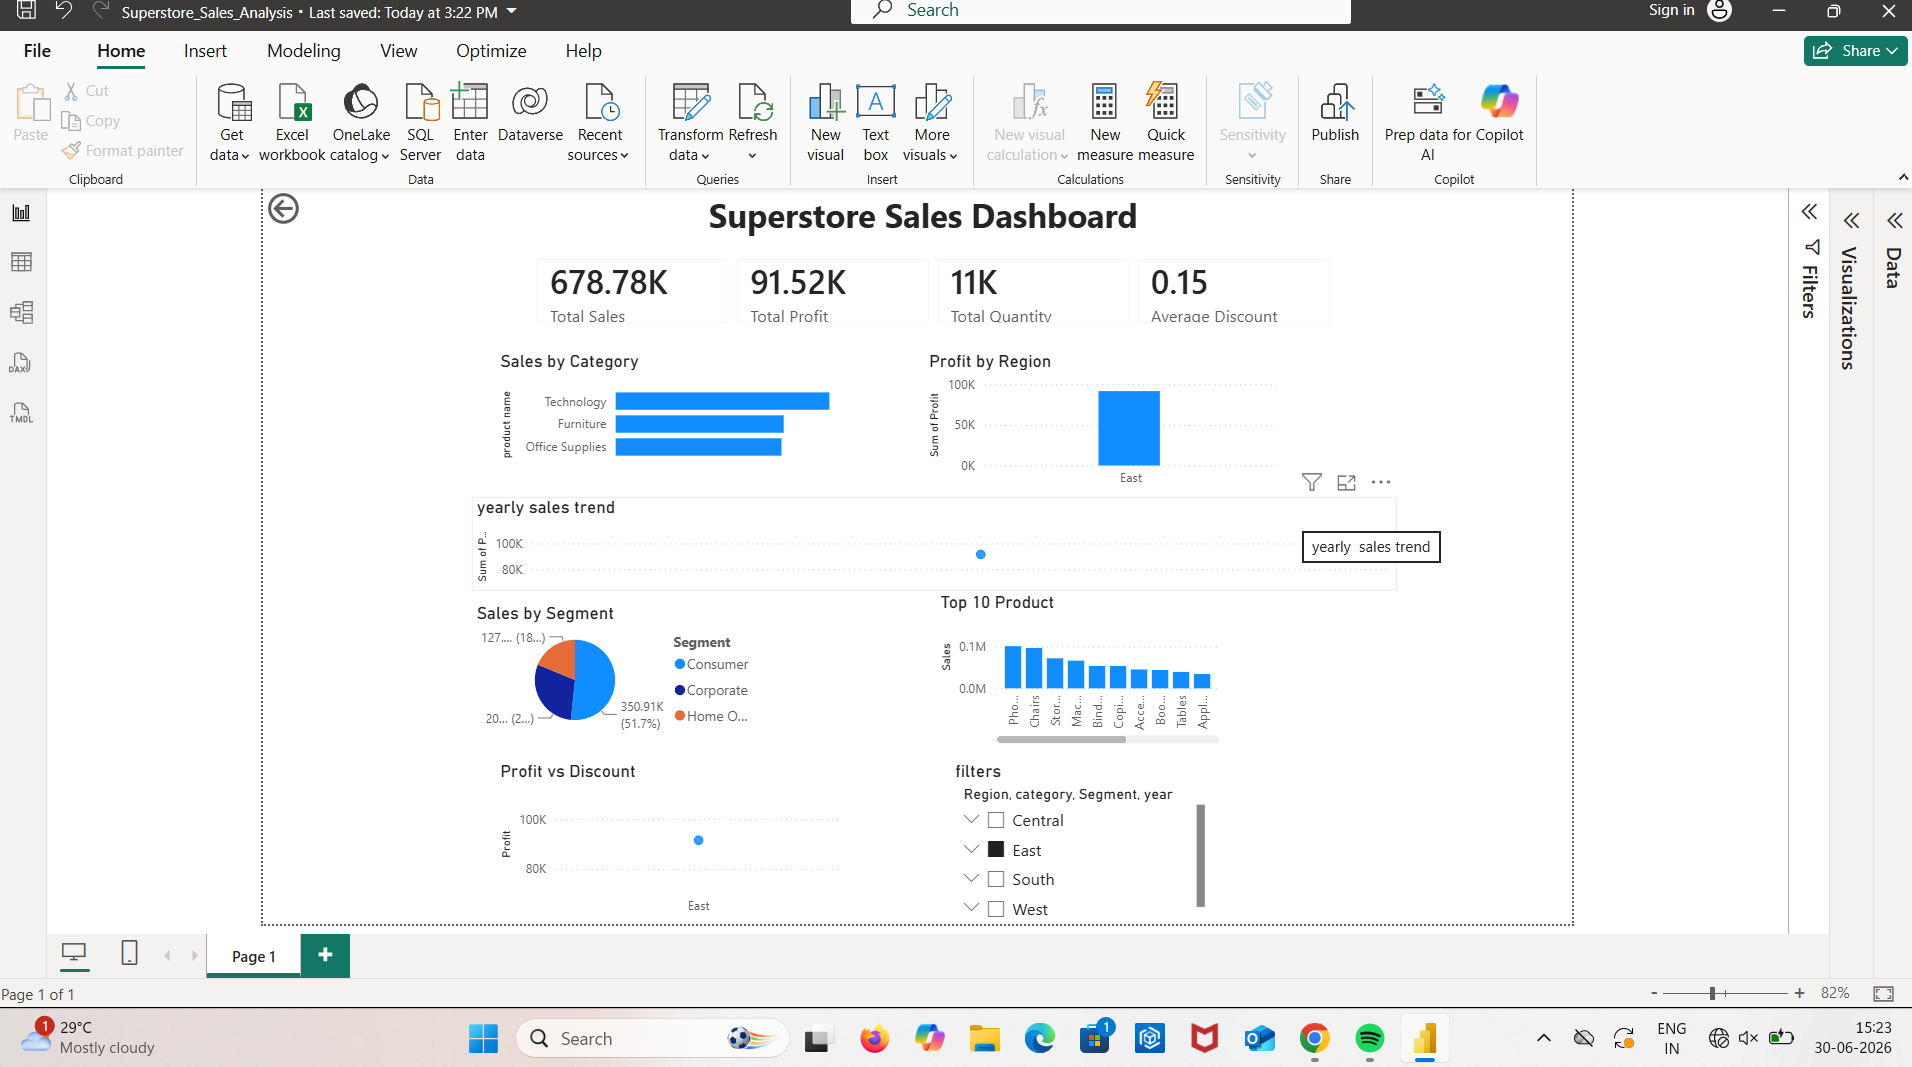

What the dashboard file says about the page in this screenshot:
{"tool":"powerbi","page":{"name":"Page 1","canvas":[1280,720],"ordinal":0},"visuals":[{"type":"clusteredBarChart","title":"Sales by Category","fields":{"Category":["SampleSuperstore.Category"],"Y":["Sum(SampleSuperstore.Sales)"]},"box":[227.8,159.2,359.5,118],"z":0},{"type":"clusteredColumnChart","title":" Profit by Region","fields":{"Category":["SampleSuperstore.Region"],"Y":["Sum(SampleSuperstore.Profit)"]},"box":[646.3,159.2,349.9,142.7],"z":1},{"type":"actionButton","box":[0,0,100,40],"z":3},{"type":"scatterChart","title":"yearly  sales trend","fields":{"Category":["SampleSuperstore.year"],"X":["Sum(SampleSuperstore.Discount)"],"Y":["Sum(SampleSuperstore.Profit)"]},"box":[204.5,301.9,904.3,91.9],"z":4},{"type":"pieChart","title":"Sales by Segment","fields":{"Category":["SampleSuperstore.Segment"],"Y":["Sum(SampleSuperstore.Sales)"]},"box":[204.5,406.2,285.4,131.7],"z":5},{"type":"scatterChart","title":"  Profit vs Discount","fields":{"Y":["Sum(SampleSuperstore.Profit)"],"X":["SampleSuperstore.Region"]},"box":[227.8,559.9,343.1,160.5],"z":7},{"type":"slicer","title":"filters","fields":{"Values":["SampleSuperstore.Region","SampleSuperstore.category","SampleSuperstore.Segment","SampleSuperstore.year"]},"box":[672.4,559.9,253.9,160.5],"z":8},{"type":"textbox","box":[251.1,0,790.4,74.1],"z":9},{"type":"cardVisual","fields":{"Data":["Sum(SampleSuperstore.Sales)","Sum(SampleSuperstore.Profit)","Sum(SampleSuperstore.Quantity)","Avg(SampleSuperstore.Discount)"]},"box":[251.1,52.1,811,97.4],"z":10},{"type":"clusteredColumnChart","title":"Top 10 Product","fields":{"Category":["SampleSuperstore.Sub-Category"],"Y":["Sum(SampleSuperstore.Sales)"]},"box":[657.3,395.2,282.7,153.7],"z":11}]}

Visuals, with their boxes on the page's 1280x720 design canvas (x1, y1, x2, y2). These are canvas units, not pixel positions in the 1912x1067 screenshot, which may show the page scaled, cropped or inside an application window:
"Sales by Category" clusteredBarChart: [228,159,587,277]
" Profit by Region" clusteredColumnChart: [646,159,996,302]
actionButton: [0,0,100,40]
"yearly  sales trend" scatterChart: [204,302,1109,394]
"Sales by Segment" pieChart: [204,406,490,538]
"  Profit vs Discount" scatterChart: [228,560,571,720]
"filters" slicer: [672,560,926,720]
textbox: [251,0,1042,74]
cardVisual - Sum(SampleSuperstore.Sales) x Sum(SampleSuperstore.Profit): [251,52,1062,150]
"Top 10 Product" clusteredColumnChart: [657,395,940,549]
